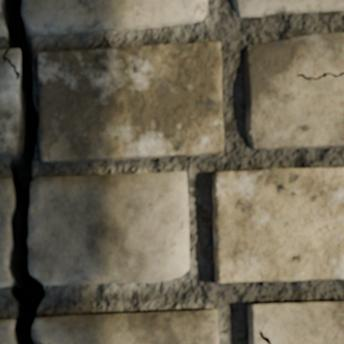brick: (38, 42, 223, 162), (213, 168, 343, 282), (244, 32, 343, 149), (249, 301, 343, 343), (0, 50, 20, 156), (233, 0, 343, 16)
broken_brick: (29, 171, 189, 286), (23, 0, 207, 36), (33, 309, 219, 343), (0, 178, 12, 288), (0, 318, 14, 343), (0, 0, 5, 37)
crack: (1, 0, 46, 343), (296, 71, 343, 80), (258, 329, 271, 343)
